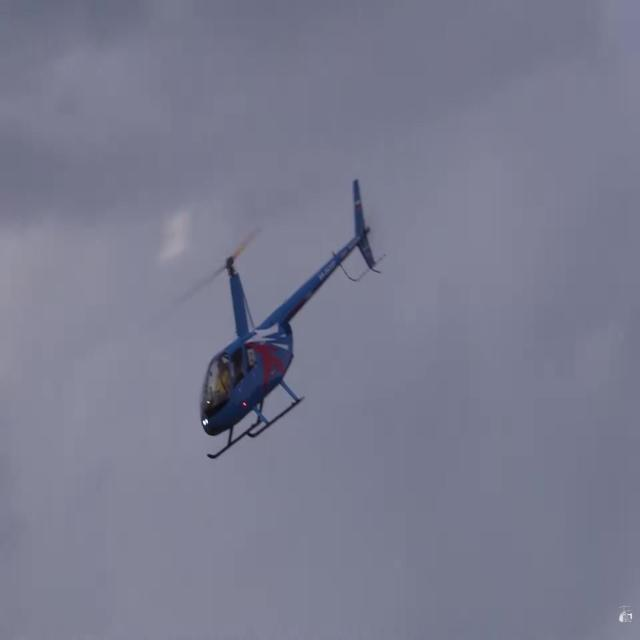CIV_HELO: (198, 176, 378, 464)
